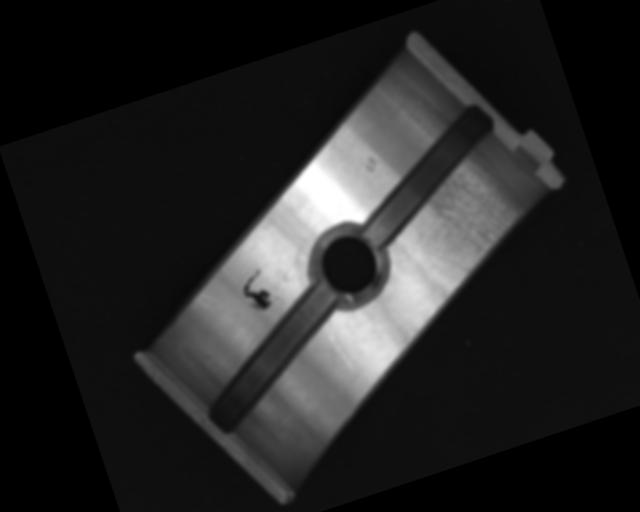blot: (235, 266, 276, 317)
bruise: (359, 150, 383, 174)
gap: (176, 283, 363, 438), (339, 101, 517, 246)
hole: (297, 215, 397, 317)
nick: (330, 331, 355, 376)
scratch: (395, 152, 537, 292)
